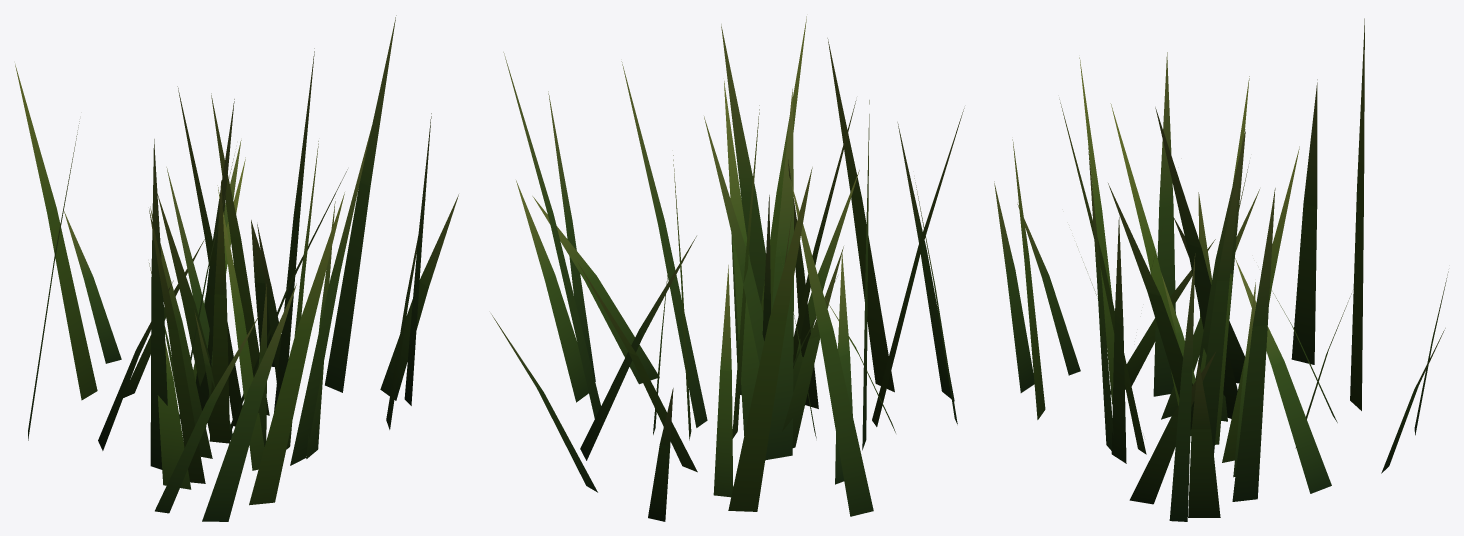
File: grass_b_1.glb
3 views of the same model, side by side, from view 1: azimuth 30°, elevation 25°; view 2: azimuth 150°, elevation 25°; view 3: azimuth 270°, elevation 25° (orthographic). The views are drawn at different scales.
Parts seen in each view (by area): view 1: grass_b_1; view 2: grass_b_1; view 3: grass_b_1.
Part boxes in pixels (box(x1,y1,x2,y2)): grass_b_1: box(15, 15, 458, 521); grass_b_1: box(491, 16, 964, 521); grass_b_1: box(994, 18, 1448, 521).
Bounding box in the file's own units: 0.6942 × 0.5998 × 0.6949.
